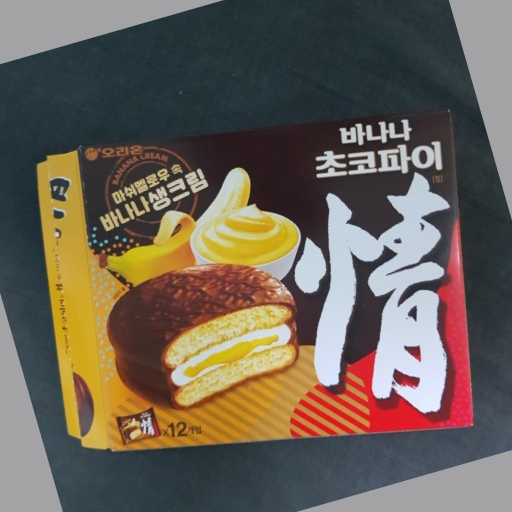Paper_0: (27, 105, 480, 460)
